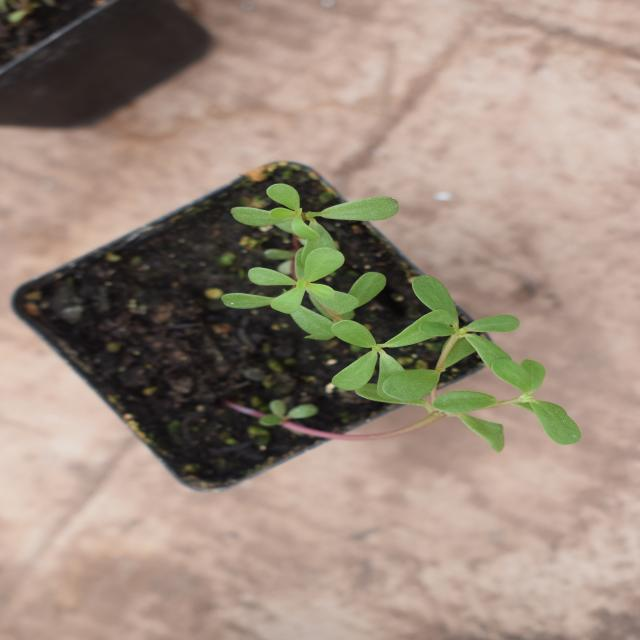purslane: (167, 337, 371, 569), (293, 228, 482, 409)
